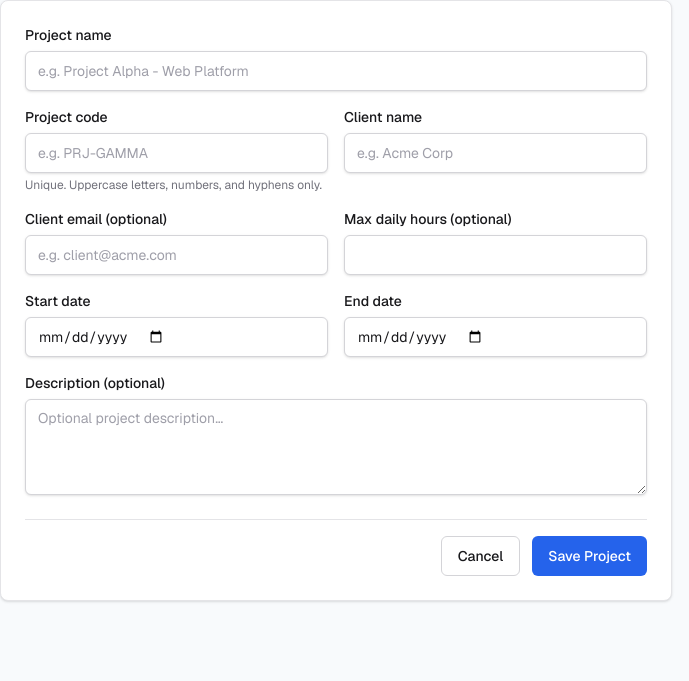
Test case: ProjectForm › surfaces a server error without redirecting
In the field labelled "Project name": (336, 71) [25,51,647,91], type "New Project"
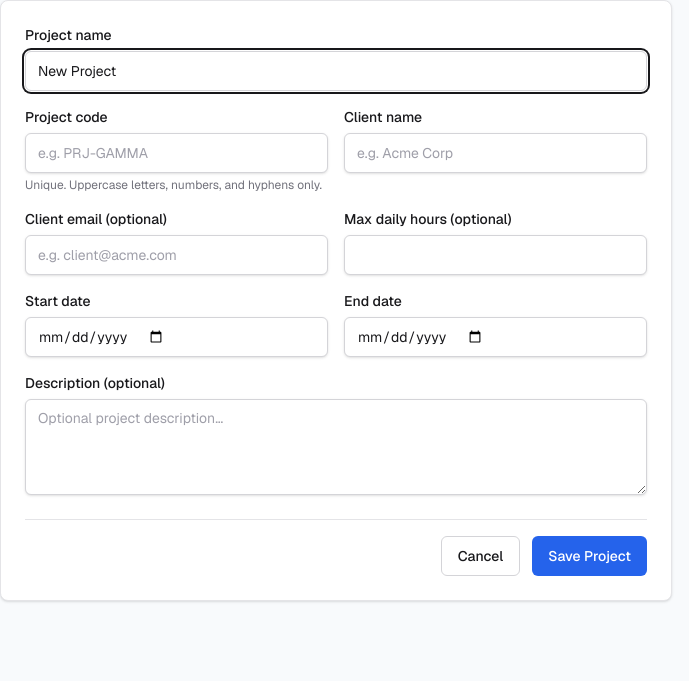
In the field labelled "Project code": (176, 153) [25,133,328,173], type "PRJ-003"
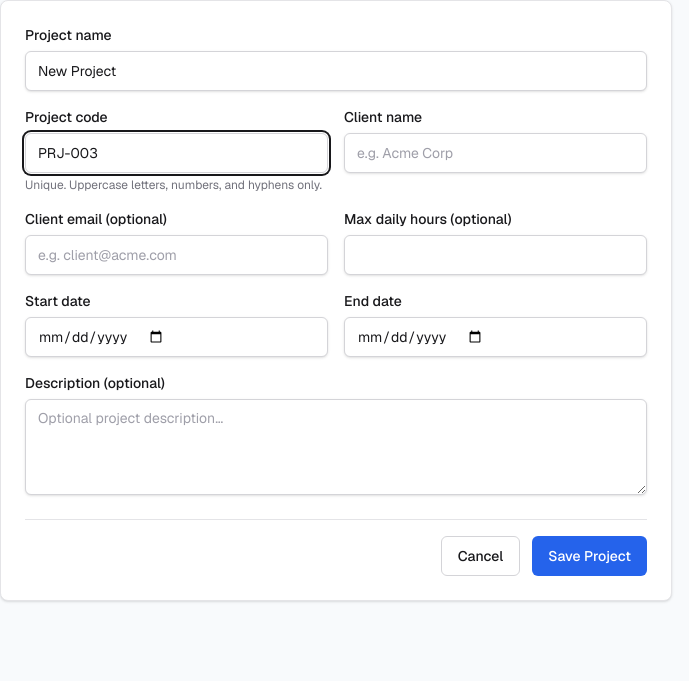
Click the button "Save Project": (590, 556) [532,536,647,576]
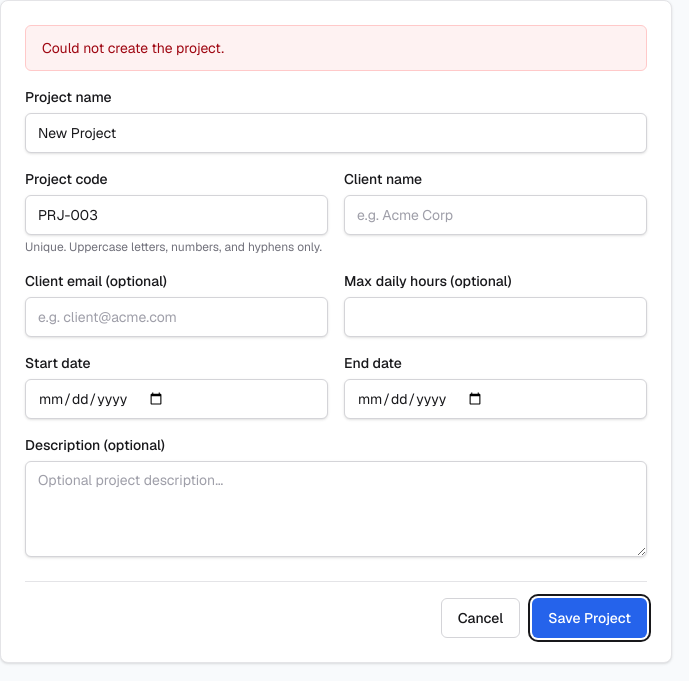
Result: the message "Could not create the project." is shown at [25,25,647,71]
